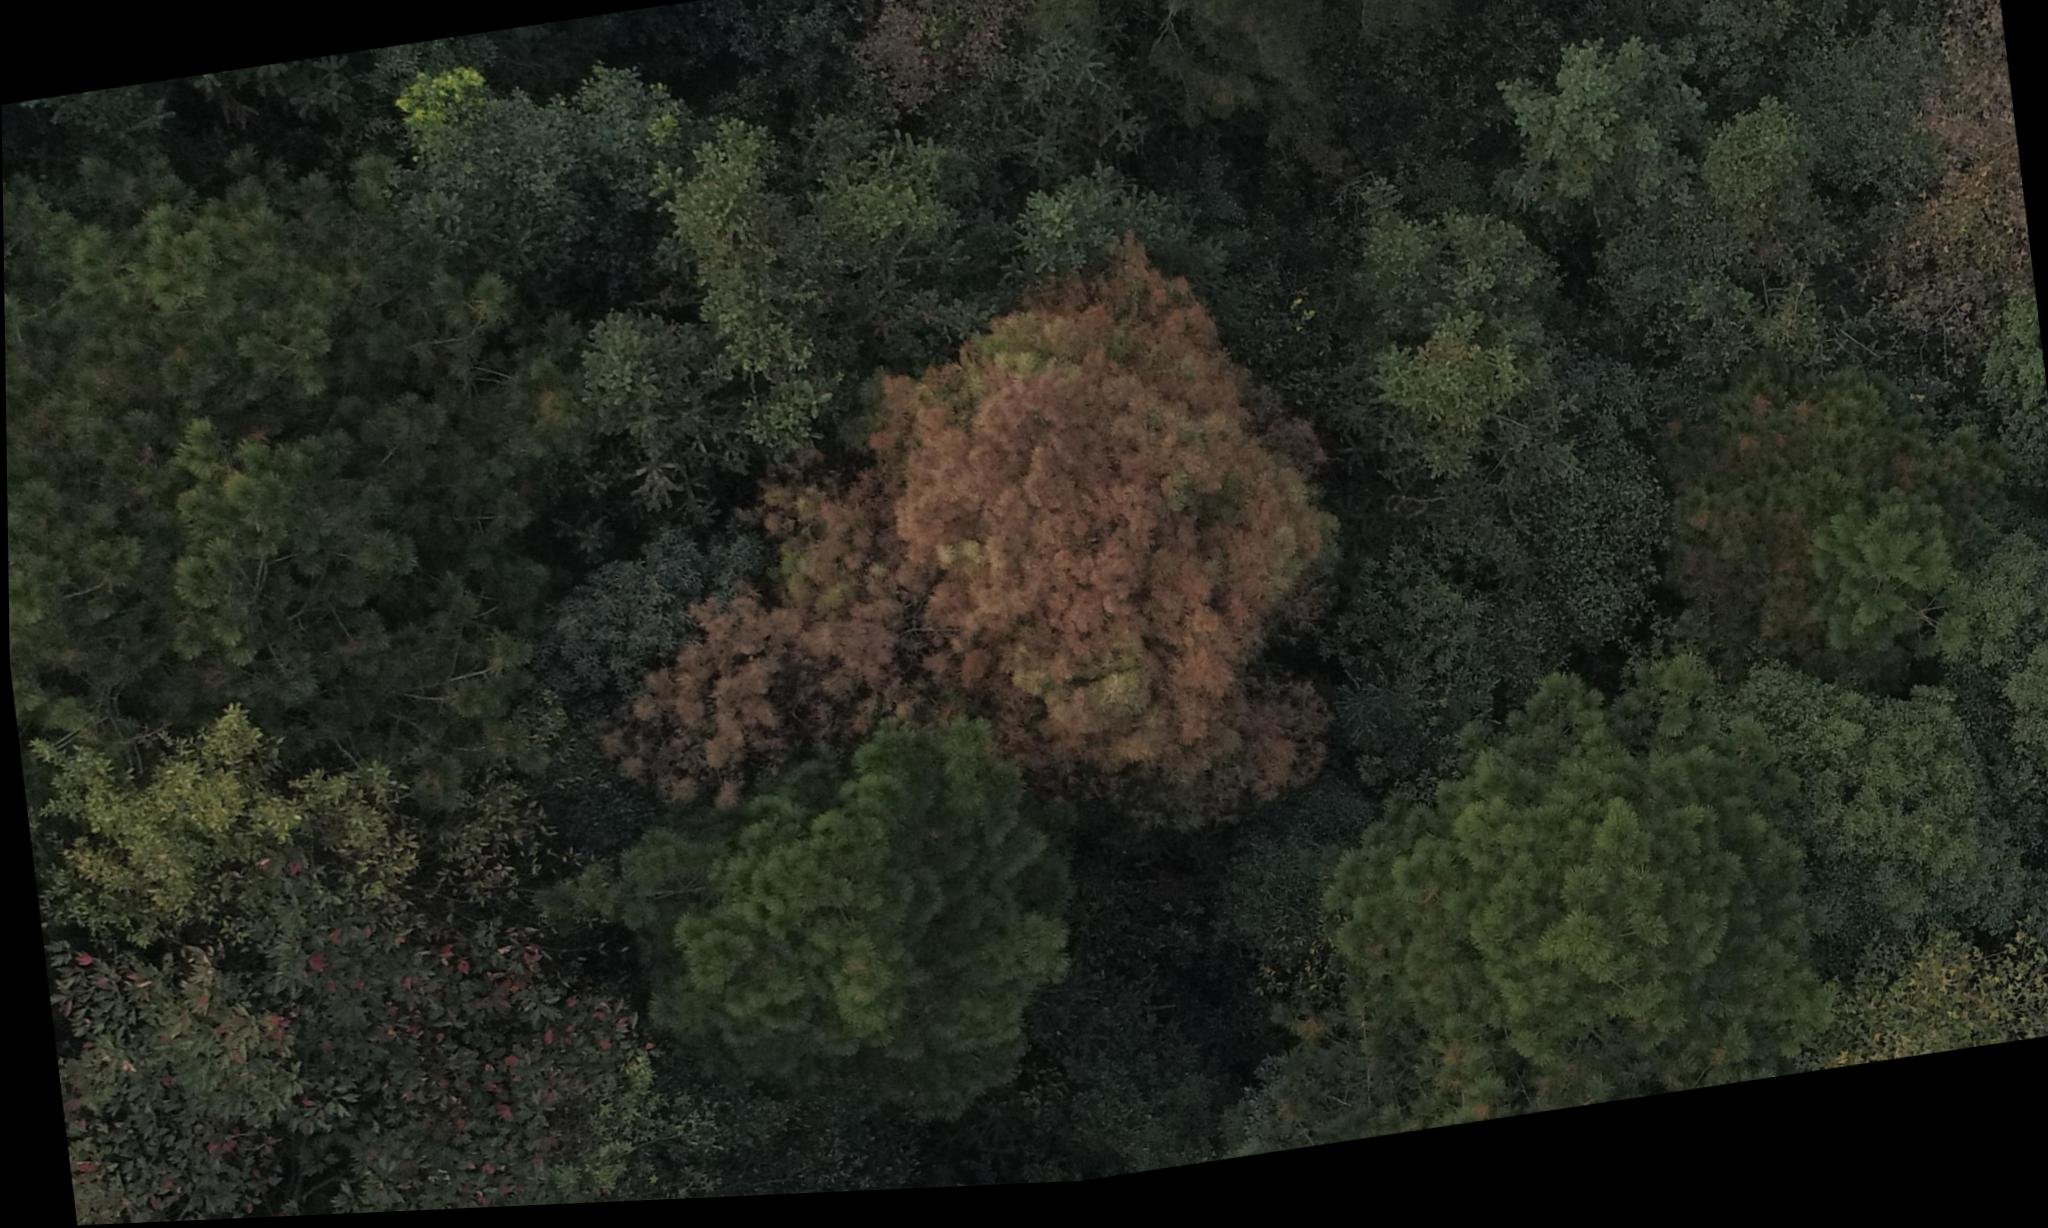heavy: (618, 244, 1349, 903)
